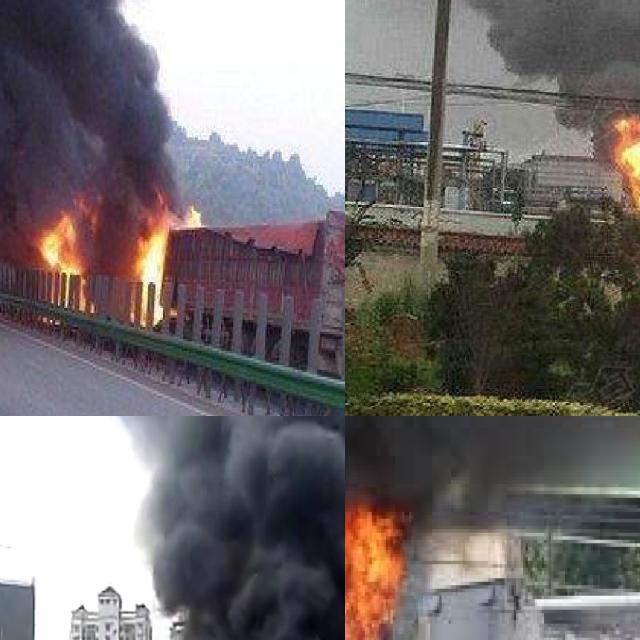fire: (345, 504, 413, 640), (38, 194, 90, 306), (130, 208, 169, 322), (611, 112, 640, 210)
smoke: (143, 416, 345, 640), (0, 0, 170, 215), (345, 416, 640, 533), (454, 0, 640, 116)
